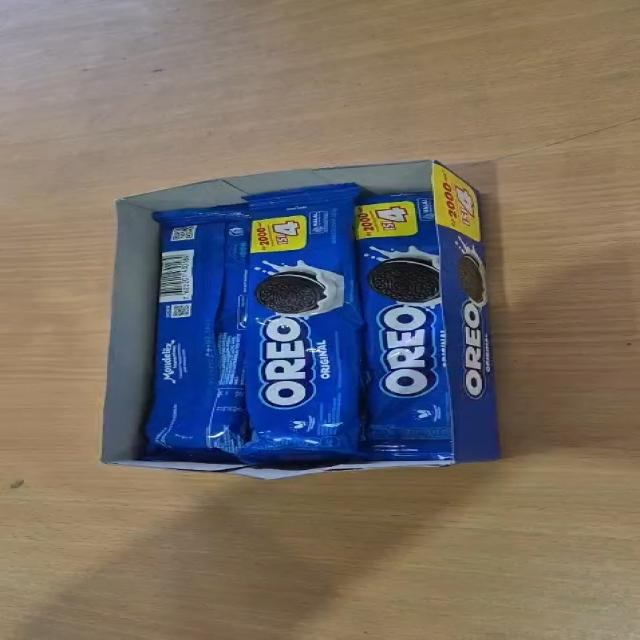Oreo: (236, 181, 368, 464), (144, 207, 250, 459), (356, 190, 451, 462)
